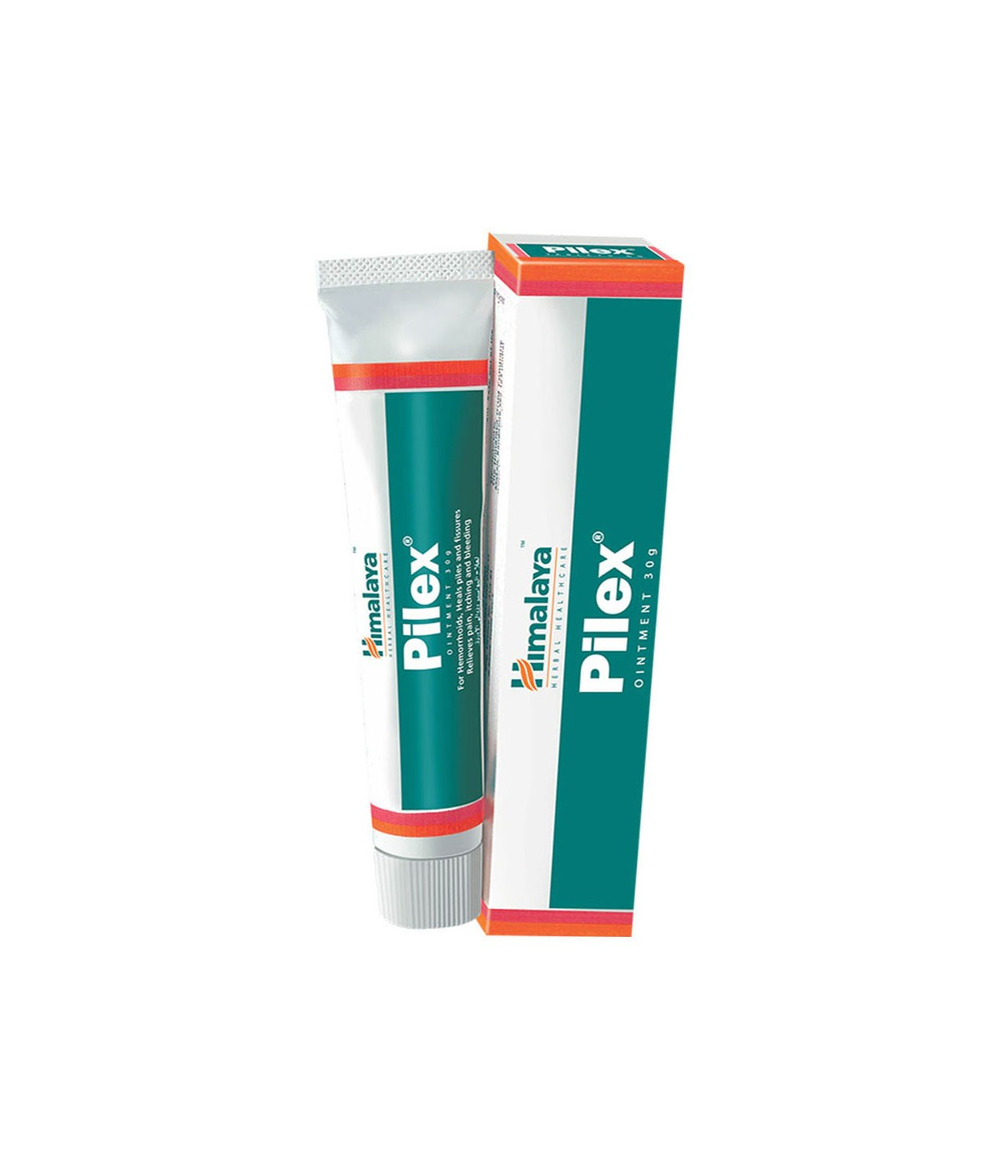Medicine: (467, 231, 709, 962), (295, 228, 503, 943)
